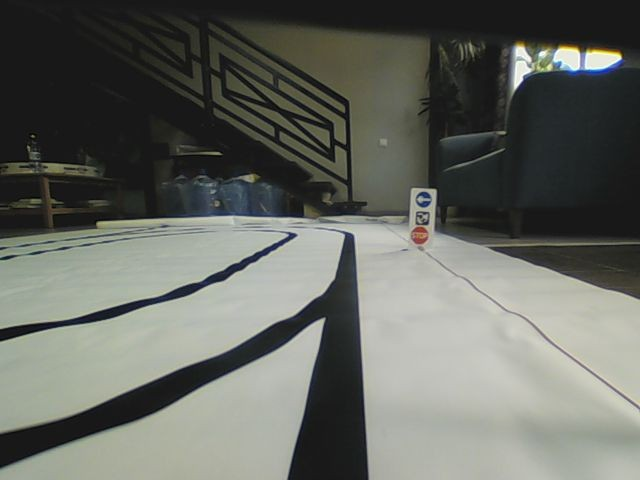Stop: (411, 227, 429, 244)
